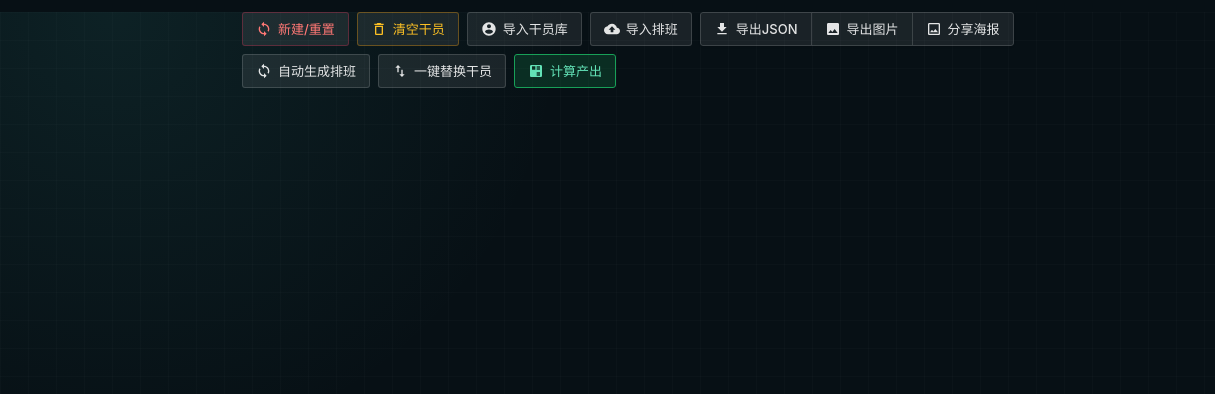
Test case: PlanToolbar.vue › Clear Operators Confirmation › clears all operators and replacements while preserving room layout and levels when confirmed
The image size is (1215, 394).
What coordinates should you click on to do the following:
click the button with test id "clear-operators-btn"
I would click on:
 (408, 29)
Its box is left=357, top=12, right=459, bottom=46.
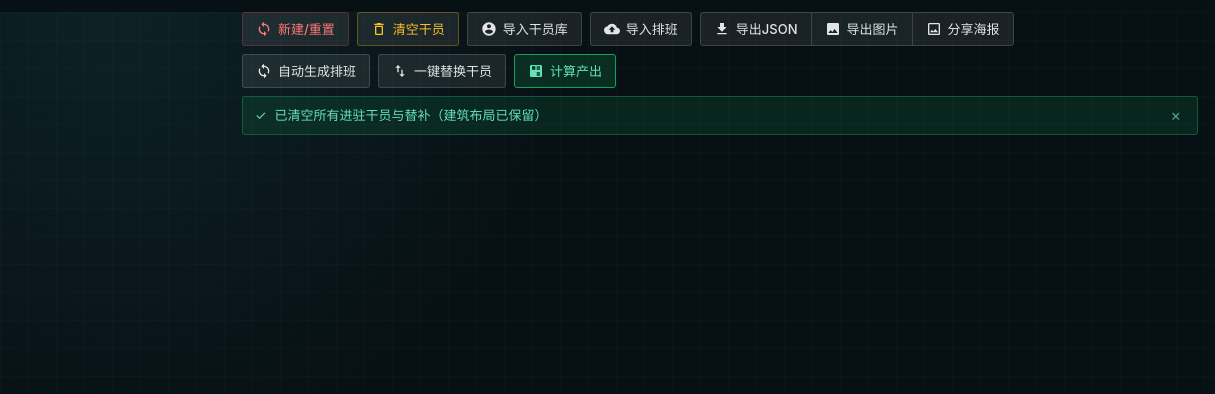
Now the element with test id "status-message" is shown, box left=242, top=96, right=1198, bottom=135
Now the element with test id "status-message" shows "已清空所有进驻干员与替补", box left=274, top=107, right=548, bottom=123
